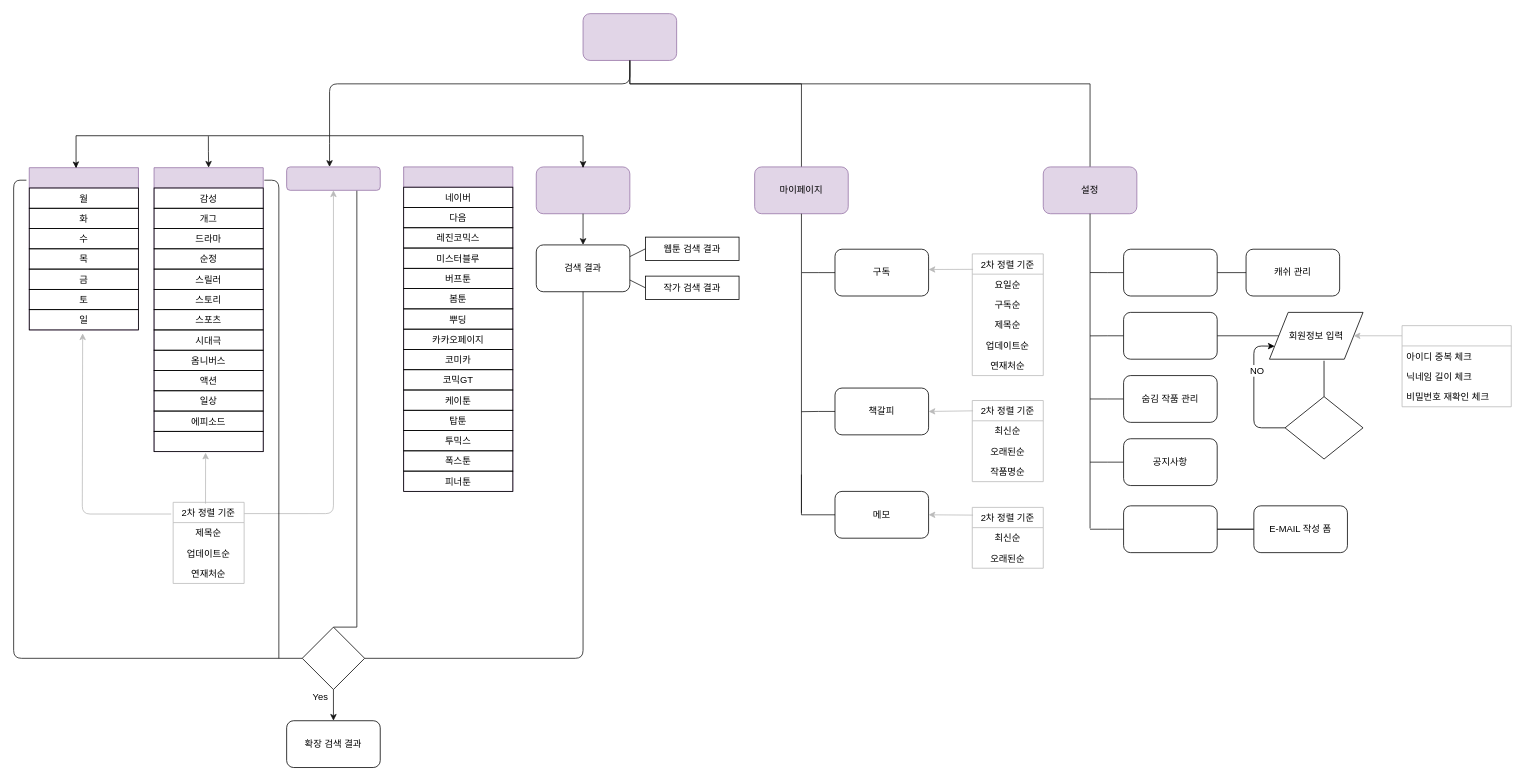
Some shapes in this 1525 by 782 pixel diagram are drawn without their labels. The box of each missing label's shape, as (x1, y1, x2, y2) in pixels:
검색: (535, 166, 630, 214)
데이터 유효성 체크: (1284, 396, 1363, 459)
메인화면: (582, 13, 677, 60)
문의 및 FAQ: (1123, 505, 1217, 553)
연재처: (403, 166, 513, 491)
완결: (286, 166, 380, 190)
요일별: (28, 167, 138, 330)
작품 숨김: (301, 626, 365, 690)
장르별: (153, 167, 263, 452)
통합 로그인 관리: (1123, 248, 1217, 296)
판타지: (153, 431, 263, 452)
프로필 수정: (1123, 312, 1217, 359)
필수정보 유효성 체크: (1401, 325, 1511, 407)
